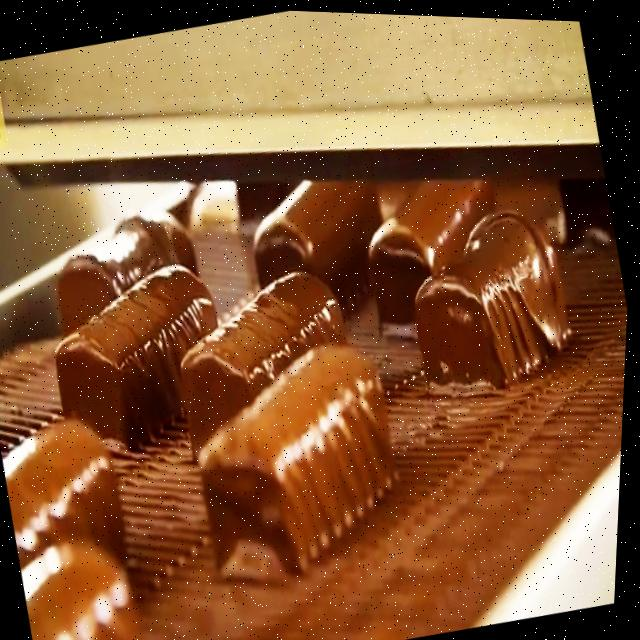Choco: (176, 320, 427, 591), (160, 251, 373, 465), (37, 245, 246, 458), (393, 186, 589, 402), (342, 147, 518, 330), (231, 147, 404, 331), (0, 371, 146, 569), (37, 182, 208, 331), (15, 502, 176, 640)
